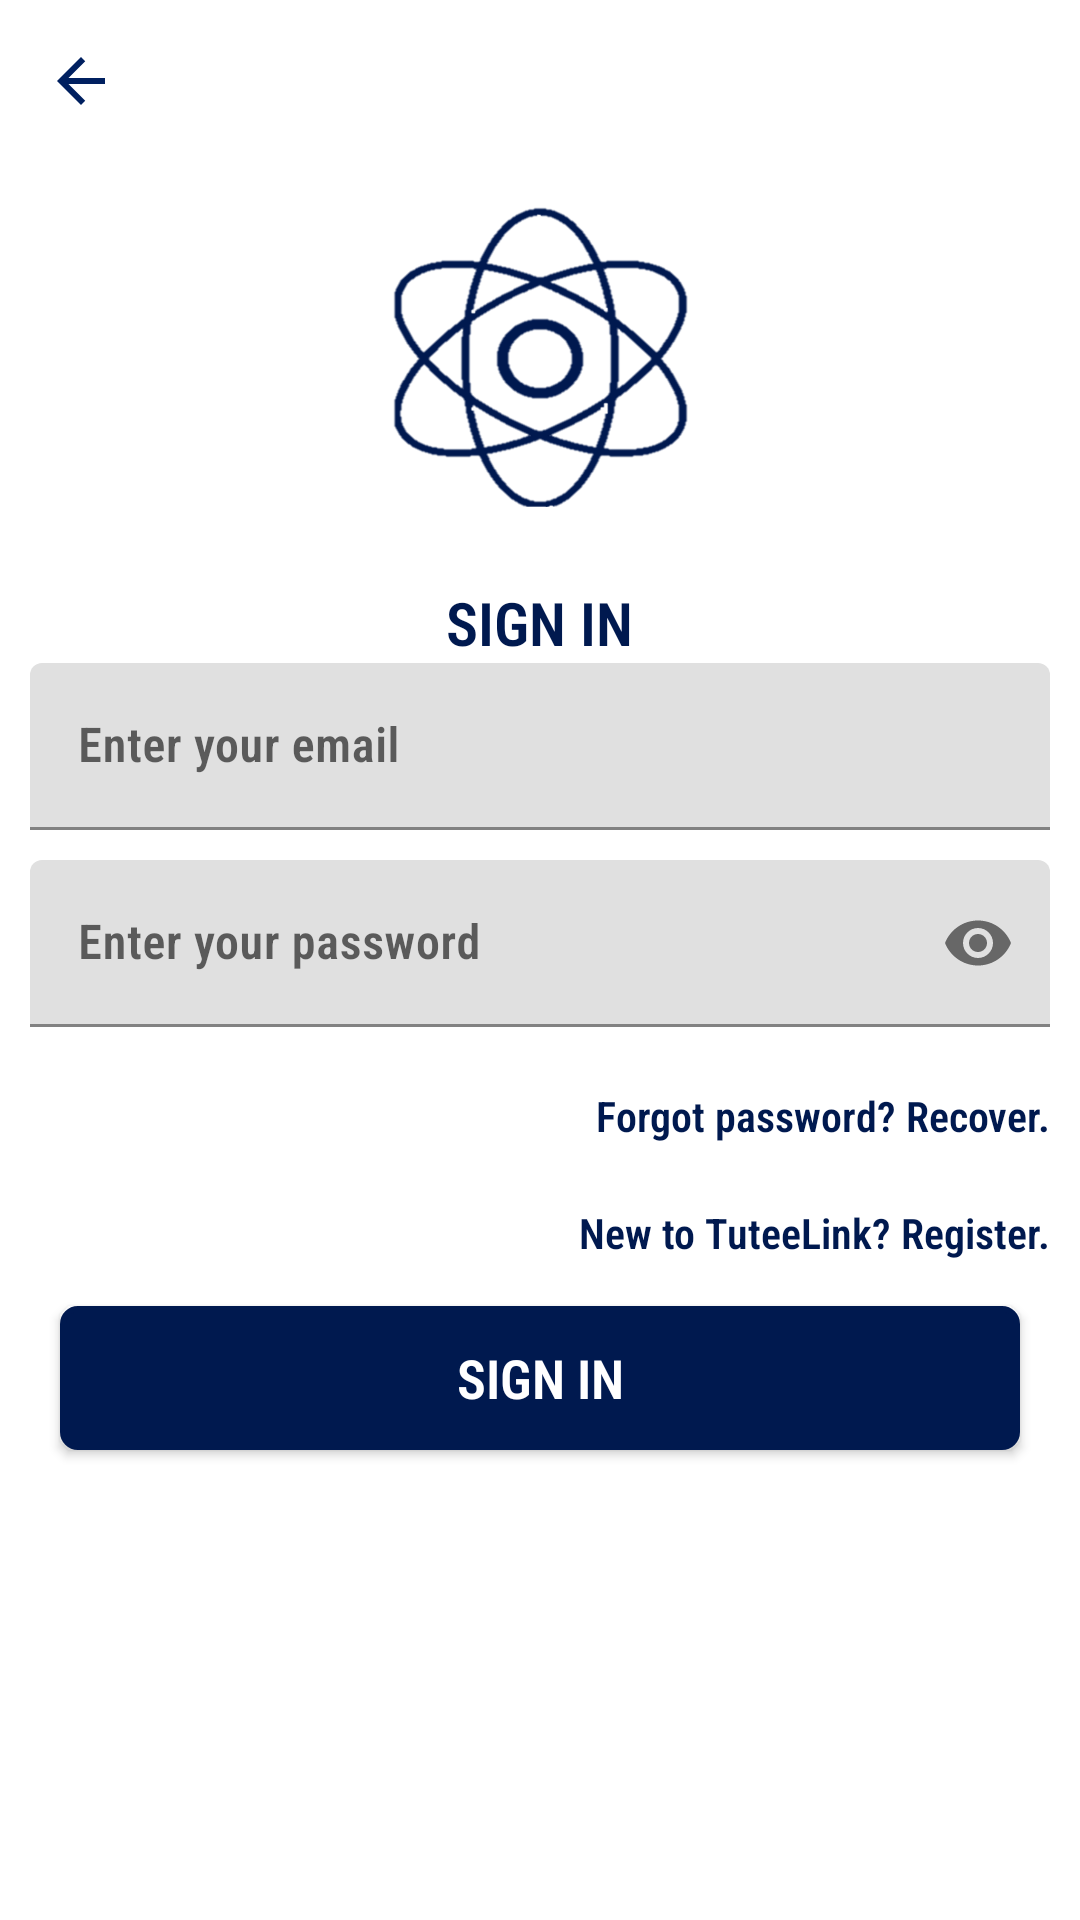

Named icons in this screenshot (1080*1920) and their bounding boxes, (x1, y1, x2, y2):
back: (57, 57, 105, 105)
